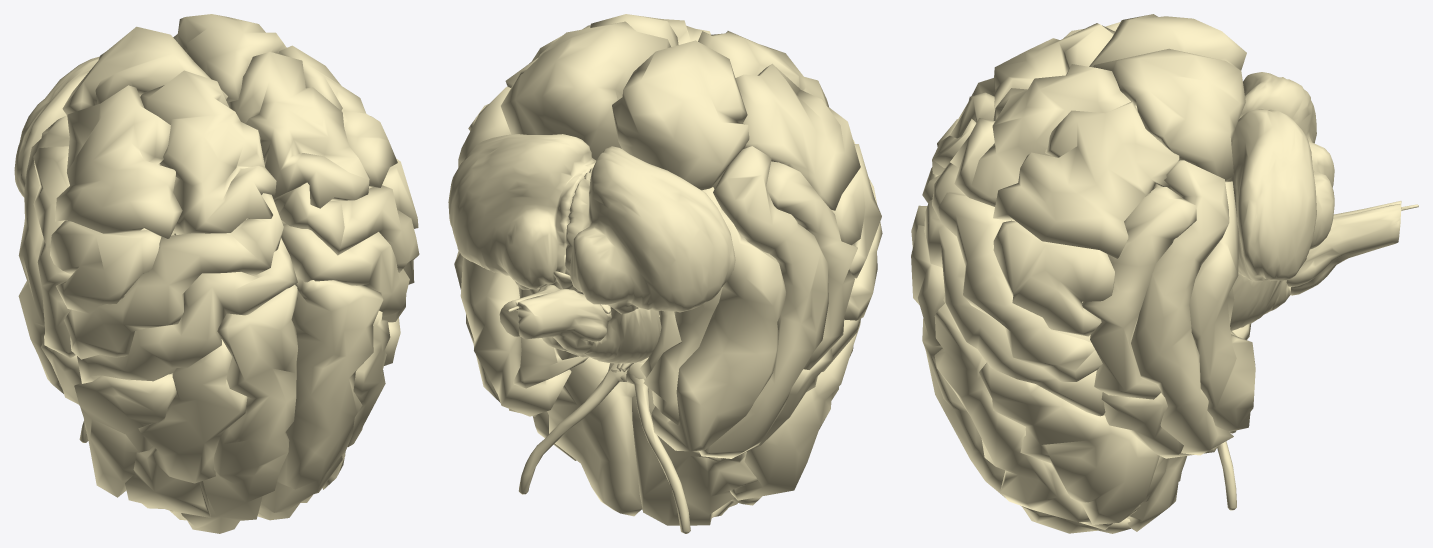
File: overview__nervous.79ee6cd47d.glb
3 renders of one model, left to right at view 1: azimuth 30°, elevation 25°; view 2: azimuth 150°, elevation 25°; view 3: azimuth 270°, elevation 25°, orthographic. The views are drawn at different scales.
Parts seen in each view (by area): view 1: FMA72654, FMA72653, FMA72669, BP50, BP49, FMA72665, FMA72655, FMA72661, FMA72701, FMA72667, FMA72666, FMA72662 (+9 smaller); view 2: FMA67944, BP51, FMA72687, FMA72975, FMA72685, FMA72976, FMA72669, FMA72688, FMA72701, FMA72804, FMA62004, FMA72689 (+12 smaller); view 3: FMA67944, FMA72670, FMA72686, FMA72702, FMA72976, BP49, FMA72666, FMA72805, FMA72656, FMA72688, FMA72668, FMA72662 (+9 smaller).
Boxes of the visible parts, box(x1,y1,x2,y2) form: FMA72654: box(257, 276, 383, 520); FMA72653: box(169, 284, 297, 533); FMA72669: box(55, 85, 182, 238); BP50: box(140, 70, 276, 234); BP49: box(227, 52, 369, 208); FMA72665: box(64, 193, 283, 359); FMA72655: box(125, 339, 247, 517); FMA72661: box(77, 237, 297, 383); FMA72701: box(74, 373, 176, 497); FMA72667: box(50, 220, 174, 313); FMA72666: box(274, 182, 419, 284); FMA72662: box(281, 220, 409, 322); FMA67944: box(448, 134, 735, 313); BP51: box(547, 357, 757, 525); FMA72687: box(651, 187, 785, 451); FMA72975: box(612, 40, 749, 190); FMA72685: box(699, 146, 828, 458); FMA72976: box(501, 21, 670, 160); FMA72669: box(735, 63, 860, 210); FMA72688: box(460, 257, 571, 416); FMA72701: box(730, 321, 860, 500); FMA72804: box(766, 161, 857, 369); FMA62004: box(499, 285, 611, 354); FMA72689: box(643, 287, 722, 424); FMA67944: box(1227, 72, 1334, 281); FMA72670: box(993, 101, 1179, 258); FMA72686: box(1131, 160, 1233, 455); FMA72702: box(979, 363, 1159, 524); FMA72976: box(1093, 48, 1245, 181); BP49: box(950, 64, 1137, 206); FMA72666: box(932, 161, 1102, 381); FMA72805: box(1082, 187, 1196, 399); FMA72656: box(934, 303, 1112, 529); FMA72688: box(1189, 181, 1255, 431); FMA72668: box(993, 220, 1114, 336); FMA72662: box(924, 199, 1105, 416).
Bounding box in the file's own units: 133 × 169 × 162.
